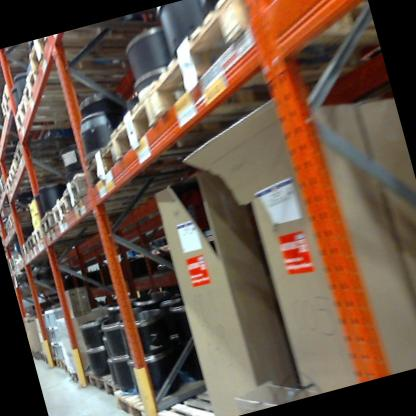pallet: (127, 0, 388, 139), (100, 54, 286, 175), (11, 35, 160, 126), (59, 138, 213, 221), (19, 10, 161, 96), (80, 118, 220, 204), (6, 65, 147, 146), (48, 170, 165, 230), (108, 360, 224, 416), (3, 139, 92, 188), (37, 193, 124, 239), (6, 123, 86, 169), (1, 156, 85, 199), (152, 383, 238, 416), (23, 219, 91, 257), (0, 80, 38, 119), (99, 368, 137, 404), (3, 204, 39, 232), (79, 363, 106, 397), (0, 61, 15, 88), (48, 353, 66, 373), (30, 224, 45, 245), (67, 364, 82, 385), (0, 173, 11, 200), (60, 355, 72, 376), (19, 241, 32, 256)
